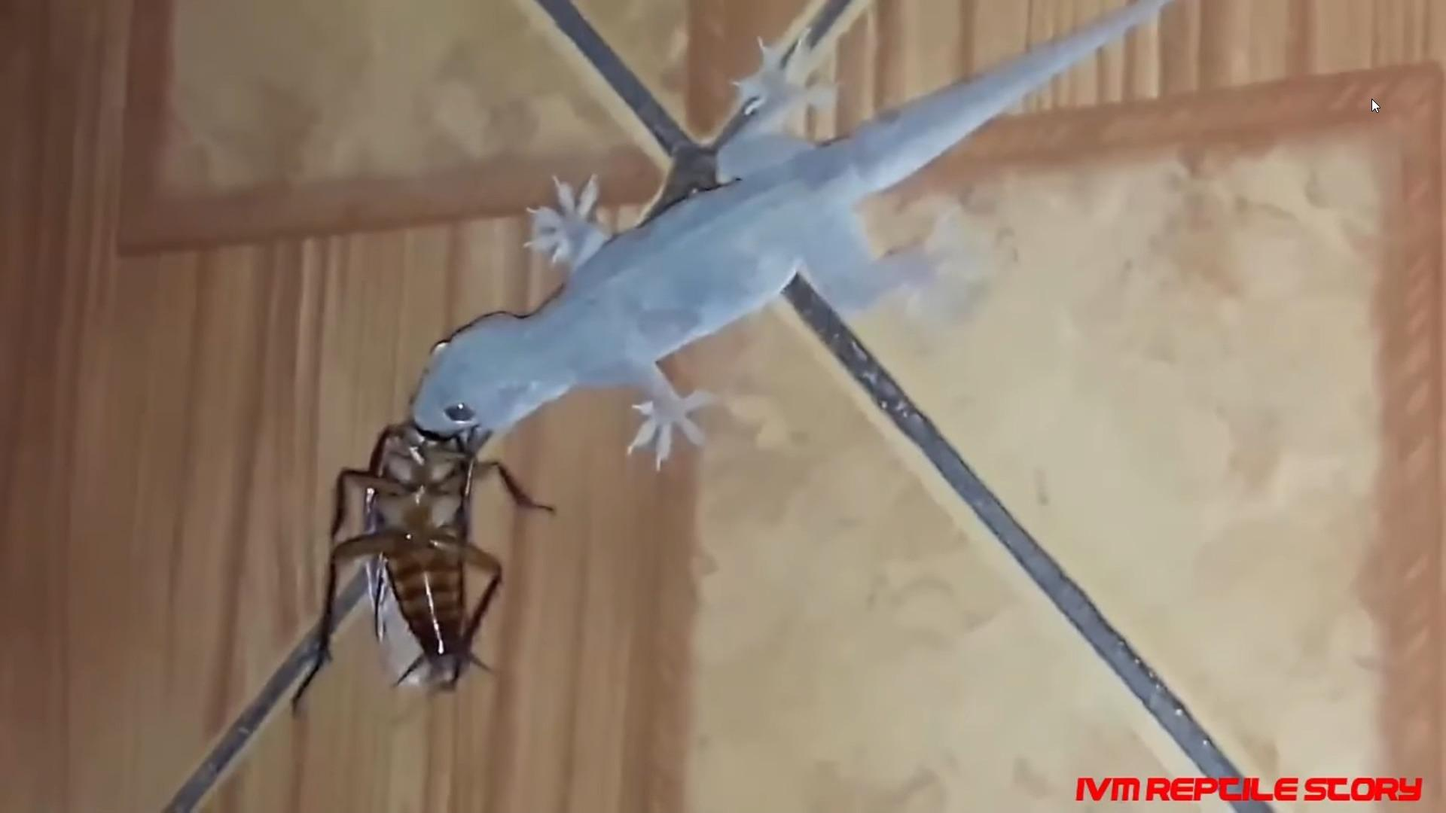cockroach: (312, 439, 551, 702)
lizard: (411, 25, 1018, 455)
